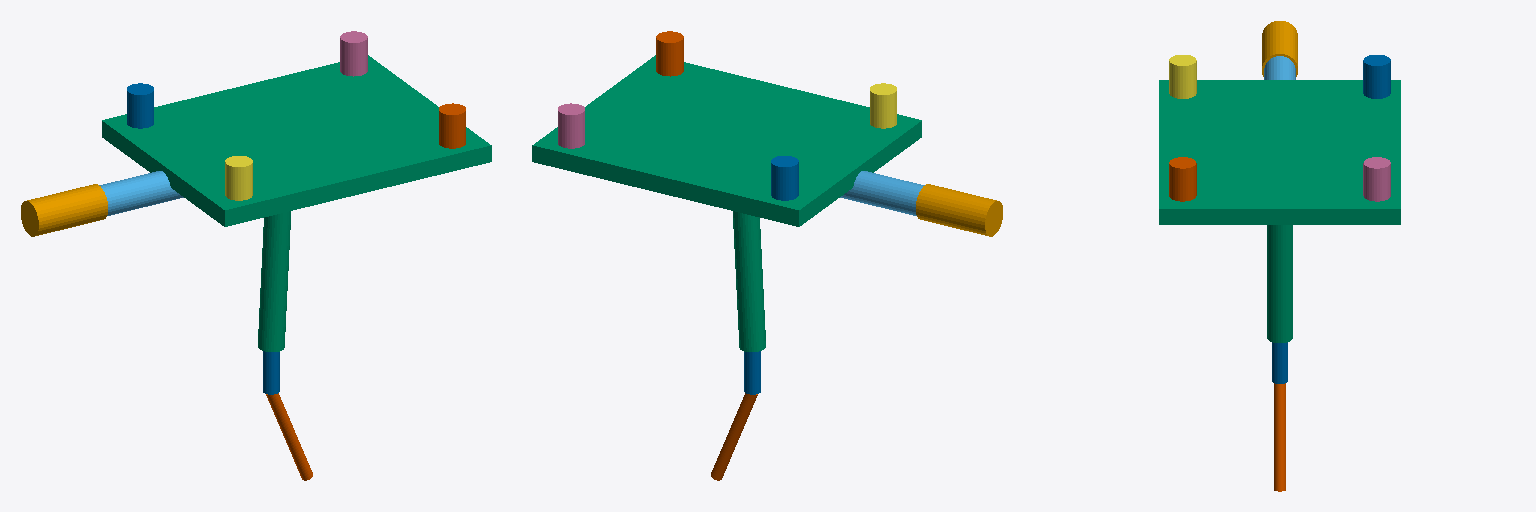
robot.urdf — weldforge_cell:
<?xml version="1.0"?>
<!--
  Bench cell
  GENERATED by weldforge.kin.urdf: bench, clamps and the mounted
  robot. Regenerate rather than edit.
-->
<robot name="weldforge_cell">

  <link name="world"/>

  <joint name="world_to_cell" type="fixed">
    <parent link="world"/>
    <child link="cell"/>
    <origin xyz="0 0 0" rpy="0 0 0"/>
  </joint>
  <link name="cell"/>

  <!-- Welding bench -->
  <joint name="cell_to_table" type="fixed">
    <parent link="cell"/>
    <child link="table"/>
    <origin xyz="1.0000 0.0000 0.7200" rpy="0 0 0"/>
  </joint>
  <link name="table">
    <inertial>
      <origin xyz="0 0 0" rpy="0 0 0"/>
      <mass value="400.0000"/>
      <inertia ixx="66.666667" ixy="0" ixz="0" iyy="66.666667" iyz="0" izz="66.666667"/>
    </inertial>
    <visual>
      <origin xyz="0 0 0" rpy="0 0 0"/>
      <geometry><box size="1.0000 0.8000 0.0600"/></geometry>
    </visual>
    <collision>
      <origin xyz="0 0 0" rpy="0 0 0"/>
      <geometry><box size="1.0000 0.8000 0.0600"/></geometry>
    </collision>
  </link>

  <!-- clamp front left -->
  <joint name="cell_to_clamp_c1" type="fixed">
    <parent link="cell"/>
    <child link="clamp_c1"/>
    <origin xyz="0.600000000 -0.320000000 0.750000000" rpy="0 0 0"/>
  </joint>
  <link name="clamp_c1">
    <inertial>
      <origin xyz="0 0 0" rpy="0 0 0"/>
      <mass value="5.0000"/>
      <inertia ixx="0.012000" ixy="0" ixz="0" iyy="0.012000" iyz="0" izz="0.012000"/>
    </inertial>
    <visual>
      <origin xyz="0 0 0.0600" rpy="0 0 0"/>
      <geometry><cylinder radius="0.0450" length="0.1200"/></geometry>
    </visual>
    <collision>
      <origin xyz="0 0 0.0600" rpy="0 0 0"/>
      <geometry><cylinder radius="0.0450" length="0.1200"/></geometry>
    </collision>
  </link>

  <!-- clamp front right -->
  <joint name="cell_to_clamp_c2" type="fixed">
    <parent link="cell"/>
    <child link="clamp_c2"/>
    <origin xyz="0.600000000 0.320000000 0.750000000" rpy="0 0 0"/>
  </joint>
  <link name="clamp_c2">
    <inertial>
      <origin xyz="0 0 0" rpy="0 0 0"/>
      <mass value="5.0000"/>
      <inertia ixx="0.012000" ixy="0" ixz="0" iyy="0.012000" iyz="0" izz="0.012000"/>
    </inertial>
    <visual>
      <origin xyz="0 0 0.0600" rpy="0 0 0"/>
      <geometry><cylinder radius="0.0450" length="0.1200"/></geometry>
    </visual>
    <collision>
      <origin xyz="0 0 0.0600" rpy="0 0 0"/>
      <geometry><cylinder radius="0.0450" length="0.1200"/></geometry>
    </collision>
  </link>

  <!-- clamp back left -->
  <joint name="cell_to_clamp_c3" type="fixed">
    <parent link="cell"/>
    <child link="clamp_c3"/>
    <origin xyz="1.400000000 -0.320000000 0.750000000" rpy="0 0 0"/>
  </joint>
  <link name="clamp_c3">
    <inertial>
      <origin xyz="0 0 0" rpy="0 0 0"/>
      <mass value="5.0000"/>
      <inertia ixx="0.012000" ixy="0" ixz="0" iyy="0.012000" iyz="0" izz="0.012000"/>
    </inertial>
    <visual>
      <origin xyz="0 0 0.0600" rpy="0 0 0"/>
      <geometry><cylinder radius="0.0450" length="0.1200"/></geometry>
    </visual>
    <collision>
      <origin xyz="0 0 0.0600" rpy="0 0 0"/>
      <geometry><cylinder radius="0.0450" length="0.1200"/></geometry>
    </collision>
  </link>

  <!-- clamp back right -->
  <joint name="cell_to_clamp_c4" type="fixed">
    <parent link="cell"/>
    <child link="clamp_c4"/>
    <origin xyz="1.400000000 0.320000000 0.750000000" rpy="0 0 0"/>
  </joint>
  <link name="clamp_c4">
    <inertial>
      <origin xyz="0 0 0" rpy="0 0 0"/>
      <mass value="5.0000"/>
      <inertia ixx="0.012000" ixy="0" ixz="0" iyy="0.012000" iyz="0" izz="0.012000"/>
    </inertial>
    <visual>
      <origin xyz="0 0 0.0600" rpy="0 0 0"/>
      <geometry><cylinder radius="0.0450" length="0.1200"/></geometry>
    </visual>
    <collision>
      <origin xyz="0 0 0.0600" rpy="0 0 0"/>
      <geometry><cylinder radius="0.0450" length="0.1200"/></geometry>
    </collision>
  </link>

  <!-- Robot, mounted where the cell says -->
  <joint name="cell_to_robot" type="fixed">
    <parent link="cell"/>
    <child link="base_link"/>
    <origin xyz="0.000000000 0.000000000 0.000000000" rpy="0.000000000 -0.000000000 0.000000000"/>
  </joint>


  <link name="base_link">
    <inertial>
      <origin xyz="0 0 0" rpy="0 0 0"/>
      <mass value="50.0000"/>
      <inertia ixx="0.750000" ixy="0" ixz="0" iyy="0.750000" iyz="0" izz="0.750000"/>
    </inertial>
  </link>

  <joint name="joint_1" type="revolute">
    <parent link="base_link"/>
    <child link="link_1"/>
    <origin xyz="0.000000000 -0.000000000 0.675000000" rpy="0.000000000 -0.000000000 0.000000000"/>
    <axis xyz="0 0 1"/>
    <limit lower="-3.228859116" upper="3.228859116" effort="1000" velocity="2.722714"/>
    <dynamics damping="0.5" friction="0.1"/>
  </joint>

  <link name="link_1">
    <inertial>
      <origin xyz="0 0 0" rpy="0 0 0"/>
      <mass value="40.0000"/>
      <inertia ixx="0.450667" ixy="0" ixz="0" iyy="0.450667" iyz="0" izz="0.450667"/>
    </inertial>
    <visual>
      <origin xyz="0.130000000 0.000000000 0.000000000" rpy="-0.000000000 1.570796327 0.000000000"/>
      <geometry><cylinder radius="0.0600" length="0.2600"/></geometry>
    </visual>
    <collision>
      <origin xyz="0.130000000 0.000000000 0.000000000" rpy="-0.000000000 1.570796327 0.000000000"/>
      <geometry><cylinder radius="0.0600" length="0.2600"/></geometry>
    </collision>
  </link>

  <joint name="joint_2" type="revolute">
    <parent link="link_1"/>
    <child link="link_2"/>
    <origin xyz="0.260000000 0.000000000 0.000000000" rpy="-1.570796327 0.000000000 0.000000000"/>
    <axis xyz="0 0 1"/>
    <limit lower="-2.705260341" upper="0.610865238" effort="1000" velocity="2.722714"/>
    <dynamics damping="0.5" friction="0.1"/>
  </joint>

  <link name="link_2">
    <inertial>
      <origin xyz="0 0 0" rpy="0 0 0"/>
      <mass value="35.0000"/>
      <inertia ixx="2.697333" ixy="0" ixz="0" iyy="2.697333" iyz="0" izz="2.697333"/>
    </inertial>
    <visual>
      <origin xyz="0.340000000 -0.000000000 0.000000000" rpy="-0.000000000 1.570796327 0.000000000"/>
      <geometry><cylinder radius="0.0520" length="0.6800"/></geometry>
    </visual>
    <collision>
      <origin xyz="0.340000000 -0.000000000 0.000000000" rpy="-0.000000000 1.570796327 0.000000000"/>
      <geometry><cylinder radius="0.0520" length="0.6800"/></geometry>
    </collision>
  </link>

  <joint name="joint_3" type="revolute">
    <parent link="link_2"/>
    <child link="link_3"/>
    <origin xyz="0.680000000 -0.000000000 0.000000000" rpy="0.000000000 -0.000000000 0.000000000"/>
    <axis xyz="0 0 1"/>
    <limit lower="-2.268928028" upper="2.687807048" effort="1000" velocity="2.722714"/>
    <dynamics damping="0.5" friction="0.1"/>
  </joint>

  <link name="link_3">
    <inertial>
      <origin xyz="0 0 0" rpy="0 0 0"/>
      <mass value="30.0000"/>
      <inertia ixx="2.250625" ixy="0" ixz="0" iyy="2.250625" iyz="0" izz="2.250625"/>
    </inertial>
    <visual>
      <origin xyz="-0.017500000 0.335000000 0.000000000" rpy="-1.570796327 -0.052191366 0.052191366"/>
      <geometry><cylinder radius="0.0440" length="0.6709"/></geometry>
    </visual>
    <collision>
      <origin xyz="-0.017500000 0.335000000 0.000000000" rpy="-1.570796327 -0.052191366 0.052191366"/>
      <geometry><cylinder radius="0.0440" length="0.6709"/></geometry>
    </collision>
  </link>

  <joint name="joint_4" type="revolute">
    <parent link="link_3"/>
    <child link="link_4"/>
    <origin xyz="-0.035000000 0.670000000 0.000000000" rpy="-1.570796327 0.000000000 0.000000000"/>
    <axis xyz="0 0 1"/>
    <limit lower="-6.108652382" upper="6.108652382" effort="1000" velocity="5.759587"/>
    <dynamics damping="0.5" friction="0.1"/>
  </joint>

  <link name="link_4">
    <inertial>
      <origin xyz="0 0 0" rpy="0 0 0"/>
      <mass value="25.0000"/>
      <inertia ixx="0.010417" ixy="0" ixz="0" iyy="0.010417" iyz="0" izz="0.010417"/>
    </inertial>
  </link>

  <joint name="joint_5" type="revolute">
    <parent link="link_4"/>
    <child link="link_5"/>
    <origin xyz="0.000000000 -0.000000000 0.000000000" rpy="1.570796327 -0.000000000 0.000000000"/>
    <axis xyz="0 0 1"/>
    <limit lower="-2.268928028" upper="2.268928028" effort="1000" velocity="5.759587"/>
    <dynamics damping="0.5" friction="0.1"/>
  </joint>

  <link name="link_5">
    <inertial>
      <origin xyz="0 0 0" rpy="0 0 0"/>
      <mass value="20.0000"/>
      <inertia ixx="0.083213" ixy="0" ixz="0" iyy="0.083213" iyz="0" izz="0.083213"/>
    </inertial>
    <visual>
      <origin xyz="0.000000000 0.079000000 0.000000000" rpy="-1.570796327 -0.000000000 0.000000000"/>
      <geometry><cylinder radius="0.0280" length="0.1580"/></geometry>
    </visual>
    <collision>
      <origin xyz="0.000000000 0.079000000 0.000000000" rpy="-1.570796327 -0.000000000 0.000000000"/>
      <geometry><cylinder radius="0.0280" length="0.1580"/></geometry>
    </collision>
  </link>

  <joint name="joint_6" type="revolute">
    <parent link="link_5"/>
    <child link="link_6"/>
    <origin xyz="0.000000000 0.158000000 0.000000000" rpy="-1.570796327 0.000000000 0.000000000"/>
    <axis xyz="0 0 1"/>
    <limit lower="-6.108652382" upper="6.108652382" effort="1000" velocity="10.733775"/>
    <dynamics damping="0.5" friction="0.1"/>
  </joint>

  <link name="link_6">
    <inertial>
      <origin xyz="0 0 0" rpy="0 0 0"/>
      <mass value="15.0000"/>
      <inertia ixx="0.333062" ixy="0" ixz="0" iyy="0.333062" iyz="0" izz="0.333062"/>
    </inertial>
    <visual>
      <origin xyz="0.068365703 0.000000000 0.169211053" rpy="0.000000000 0.383972435 0.000000000"/>
      <geometry><cylinder radius="0.0200" length="0.3650"/></geometry>
    </visual>
    <collision>
      <origin xyz="0.068365703 0.000000000 0.169211053" rpy="0.000000000 0.383972435 0.000000000"/>
      <geometry><cylinder radius="0.0200" length="0.3650"/></geometry>
    </collision>
  </link>

  <joint name="joint_tool" type="fixed">
    <parent link="link_6"/>
    <child link="torch_tip"/>
    <origin xyz="0.136731407 0.000000000 0.338422107" rpy="0.000000000 0.383972435 0.000000000"/>
  </joint>

  <link name="torch_tip">
    <inertial>
      <origin xyz="0 0 0" rpy="0 0 0"/>
      <mass value="2.0000"/>
      <inertia ixx="0.000833" ixy="0" ixz="0" iyy="0.000833" iyz="0" izz="0.000833"/>
    </inertial>
  </link>

</robot>

--- Render facts (derived) ---
The picture shows the robot from 3 angles, left to right: view 1: azimuth 30°, elevation 25°; view 2: azimuth 150°, elevation 25°; view 3: azimuth 270°, elevation 25°; orthographic projection.
Robot: weldforge_cell — 15 links, 14 joints (6 revolute, 8 fixed); root link world; default pose: every joint at zero.
Visible links, largest first — view 1: table, link_3, link_1, link_2, clamp_c1, clamp_c4, clamp_c2, clamp_c3, link_6, link_5; view 2: table, link_3, link_1, link_2, clamp_c2, clamp_c3, clamp_c1, clamp_c4, link_6, link_5; view 3: table, link_3, link_1, link_6, clamp_c3, clamp_c4, clamp_c1, clamp_c2, link_2, link_5.
Boxes of the visible links, <box> form: table: <box>102,55,491,226</box>; link_3: <box>258,211,290,351</box>; link_1: <box>21,184,107,236</box>; link_2: <box>99,171,183,215</box>; clamp_c1: <box>225,156,252,200</box>; clamp_c4: <box>340,31,367,76</box>; clamp_c2: <box>127,83,153,128</box>; clamp_c3: <box>439,103,465,148</box>; link_6: <box>266,393,312,480</box>; link_5: <box>263,351,279,394</box>; table: <box>532,55,921,226</box>; link_3: <box>733,211,765,351</box>; link_1: <box>916,184,1002,236</box>; link_2: <box>840,171,924,215</box>; clamp_c2: <box>771,156,798,200</box>; clamp_c3: <box>656,31,683,76</box>; clamp_c1: <box>870,83,896,128</box>; clamp_c4: <box>558,103,584,148</box>; link_6: <box>711,393,757,480</box>; link_5: <box>744,351,760,394</box>; table: <box>1159,80,1400,224</box>; link_3: <box>1267,225,1292,342</box>; link_1: <box>1262,21,1297,76</box>; link_6: <box>1274,383,1285,491</box>; clamp_c3: <box>1169,157,1196,201</box>; clamp_c4: <box>1363,157,1390,201</box>; clamp_c1: <box>1169,55,1196,98</box>; clamp_c2: <box>1363,55,1390,98</box>; link_2: <box>1264,56,1295,79</box>; link_5: <box>1272,342,1287,383</box>.
Bounding box of the posed robot: 1.5 × 0.8 × 1.37 m (x, y, z).
Geometry: primitives only (box / cylinder / sphere), no mesh files.
